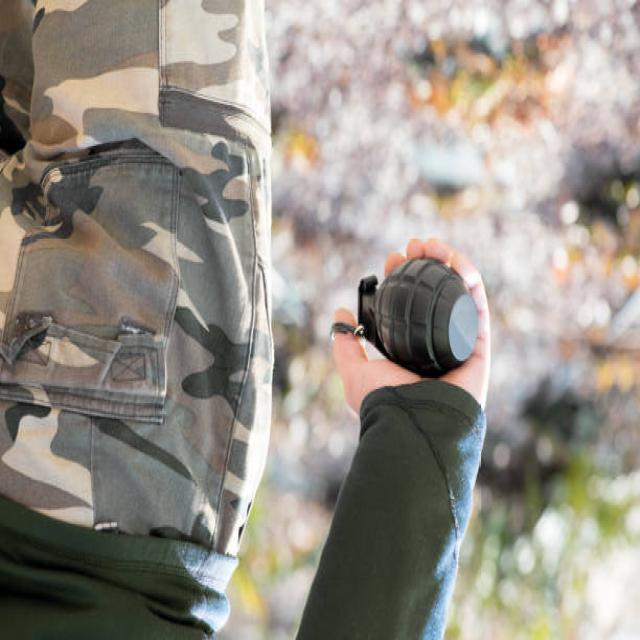grenade: (330, 255, 482, 380)
